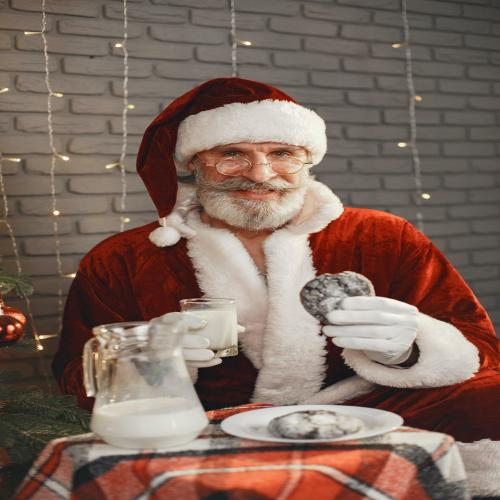Santa: (59, 77, 500, 428)
